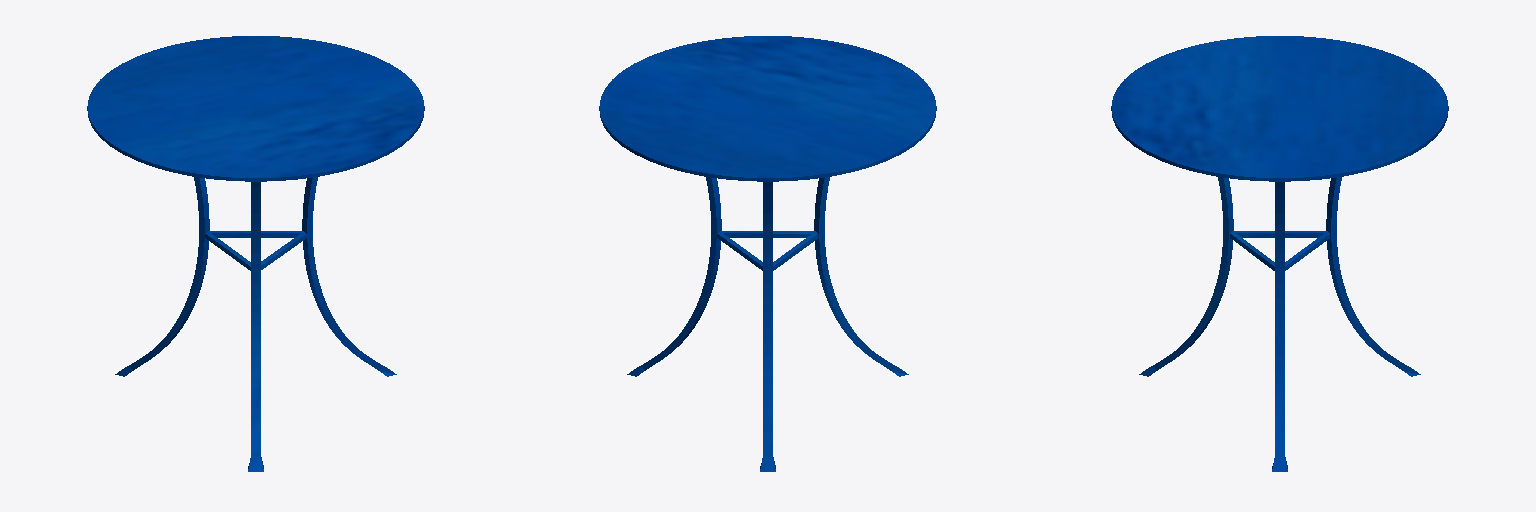
3 renders of one model, left to right at view 1: azimuth 30°, elevation 25°; view 2: azimuth 150°, elevation 25°; view 3: azimuth 270°, elevation 25°, orthographic.
Parts seen in each view (by area): view 1: table; view 2: table; view 3: table.
Boxes of the visible parts, box(x1,y1,x2,y2) form: table: box(87, 36, 424, 471); table: box(599, 36, 936, 471); table: box(1111, 36, 1448, 471).
Bounding box in the file's own units: 26 × 25.35 × 26.
Materials: 1 (1 with a texture image).